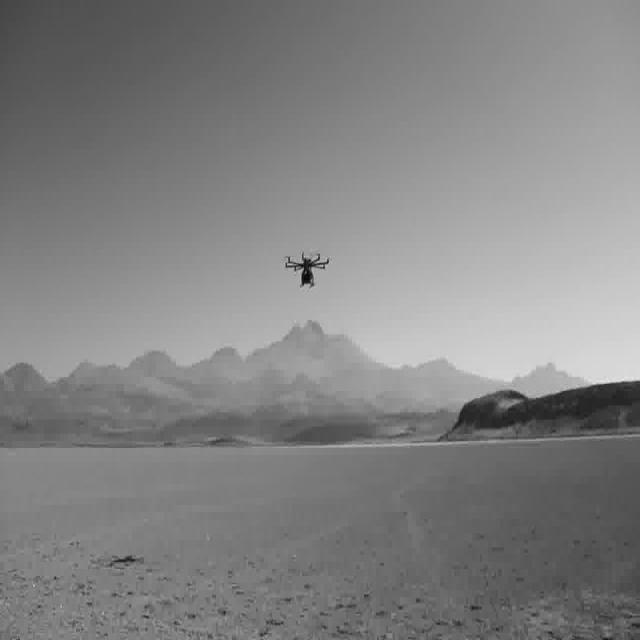drone: (285, 249, 332, 291)
